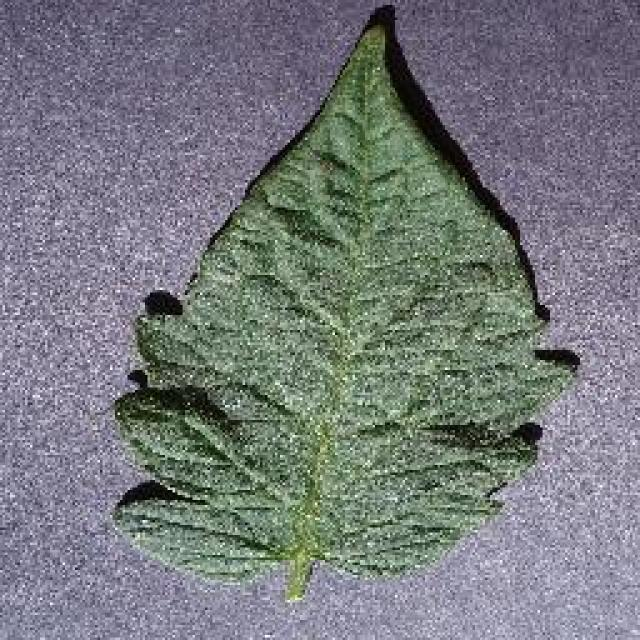healthy: (106, 25, 585, 602)
